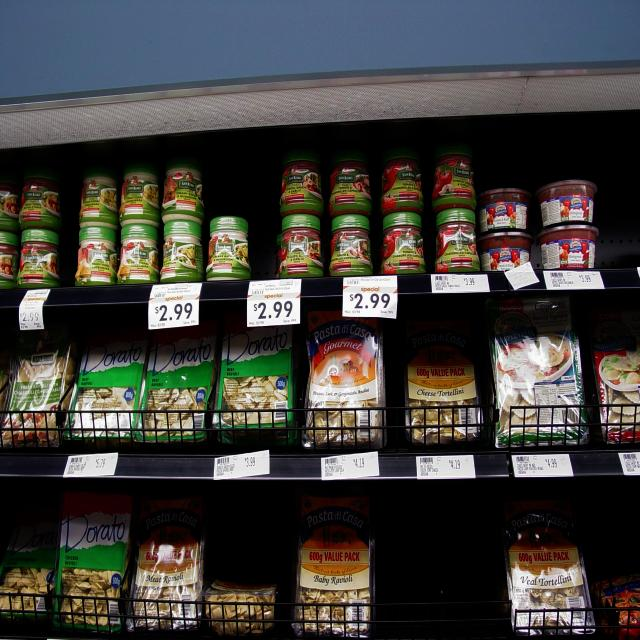empty_space: (388, 514, 490, 626), (612, 163, 640, 263)
